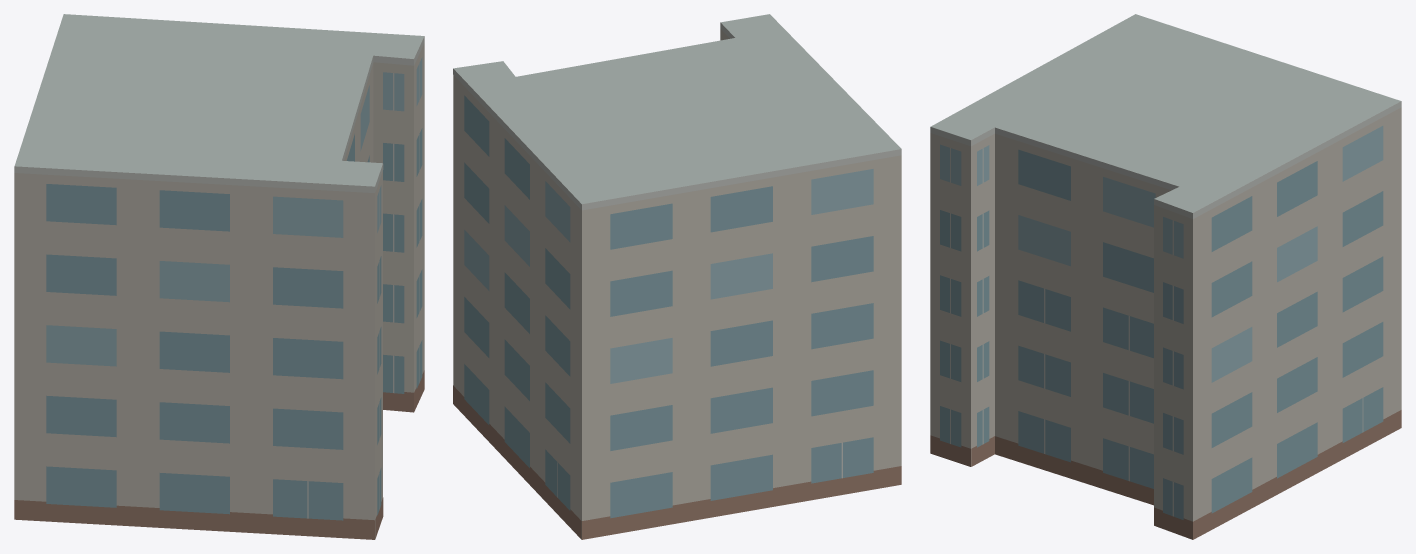
The model's file is survey-upis-32976943.glb.
The picture shows the model from 3 angles, left to right: view 1: azimuth 30°, elevation 25°; view 2: azimuth 150°, elevation 25°; view 3: azimuth 270°, elevation 25°; orthographic projection. The views are drawn at different scales.
Parts seen in each view (by area): view 1: survey-upis-32976943.tmp; view 2: survey-upis-32976943.tmp; view 3: survey-upis-32976943.tmp.
Part boxes in pixels (left/top/right/bottom): survey-upis-32976943.tmp: left=14, top=14, right=424, bottom=539; survey-upis-32976943.tmp: left=453, top=14, right=901, bottom=539; survey-upis-32976943.tmp: left=930, top=14, right=1401, bottom=539.
Size of the model in its own units: 17.13 by 13.1 by 17.13.
